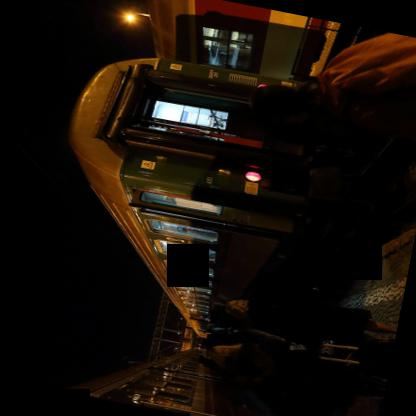suitcase: (317, 338, 394, 390)
